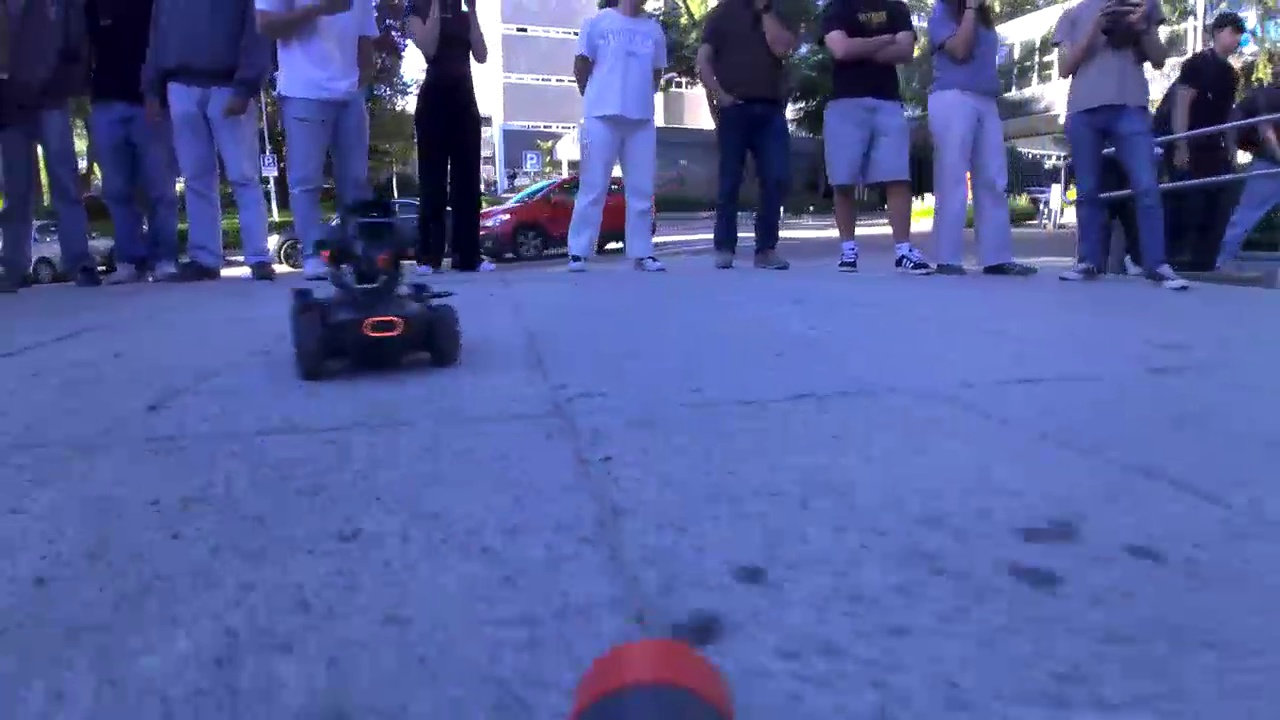robot: (280, 211, 466, 377)
